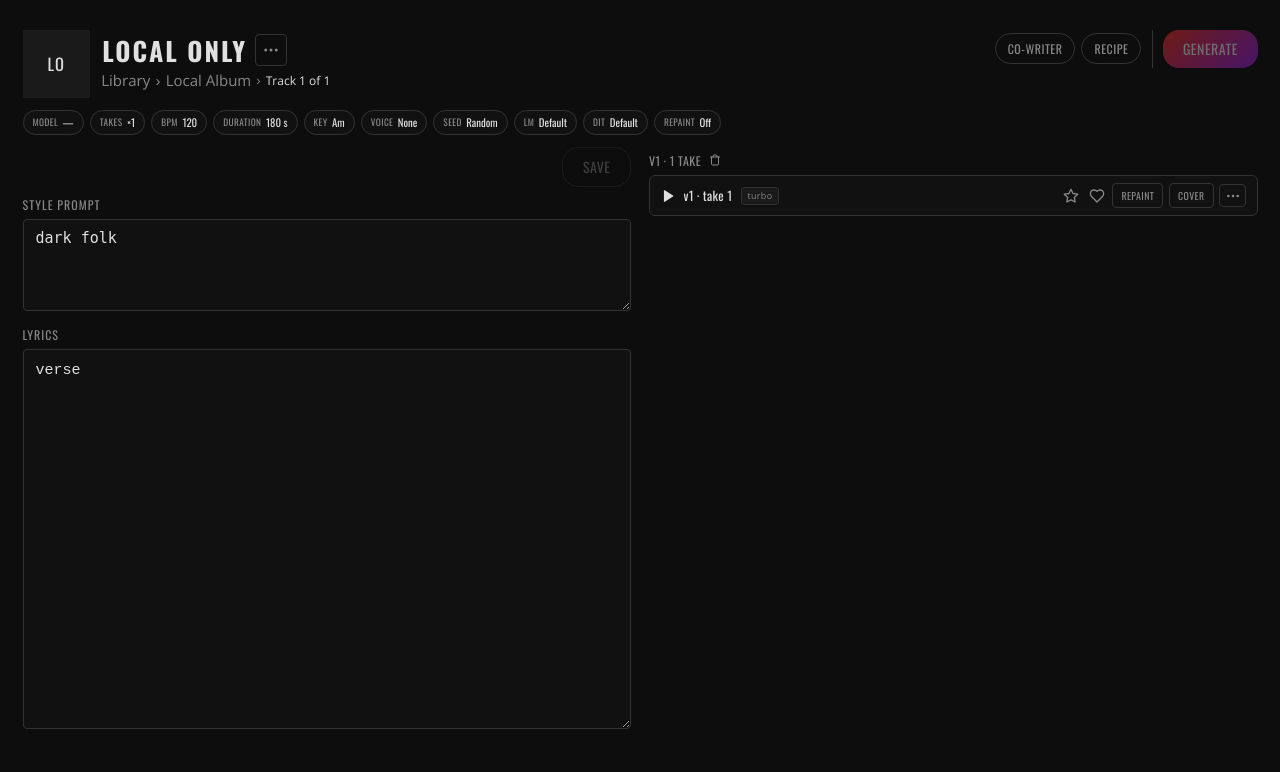
Test: SongDetailView header — one row, every state › toggles the Recipe panel independently of the Write/Takes content
Click the button "Recipe": [1111, 49] box [1082, 33, 1141, 64]
(page scrolled)
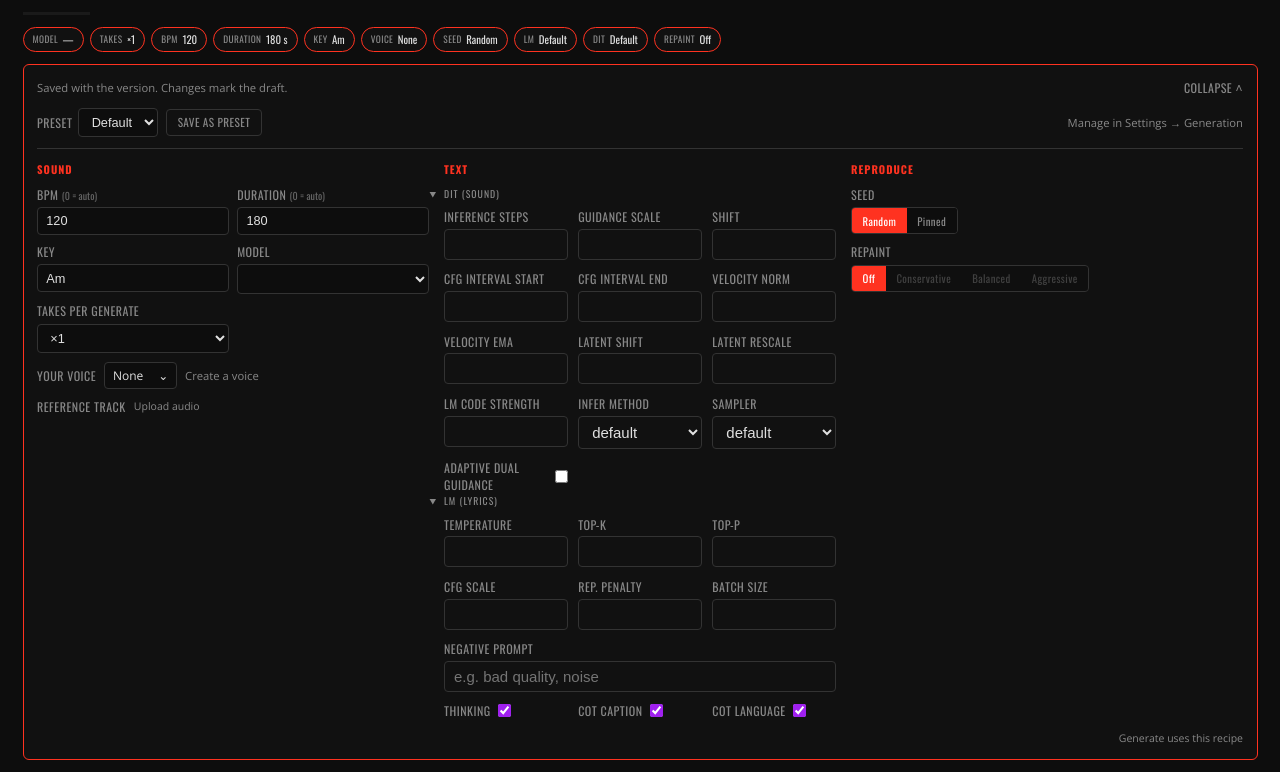
Now the element with class "recipe-panel" is shown
